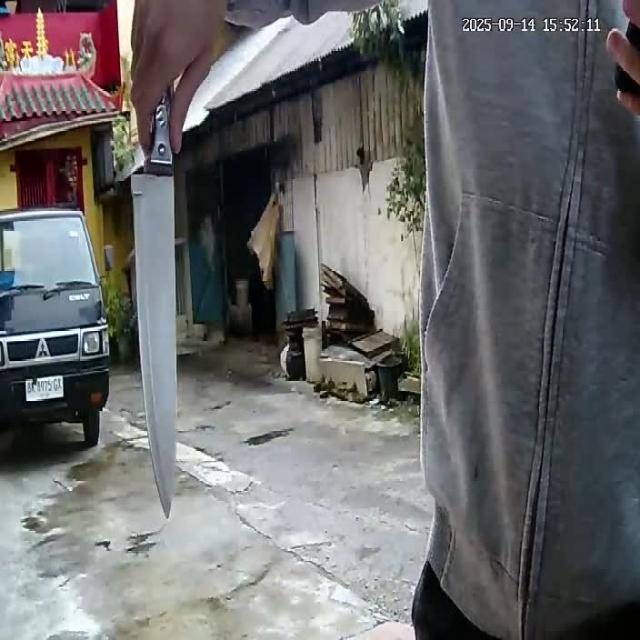senjata_tajam: (129, 131, 178, 518)
